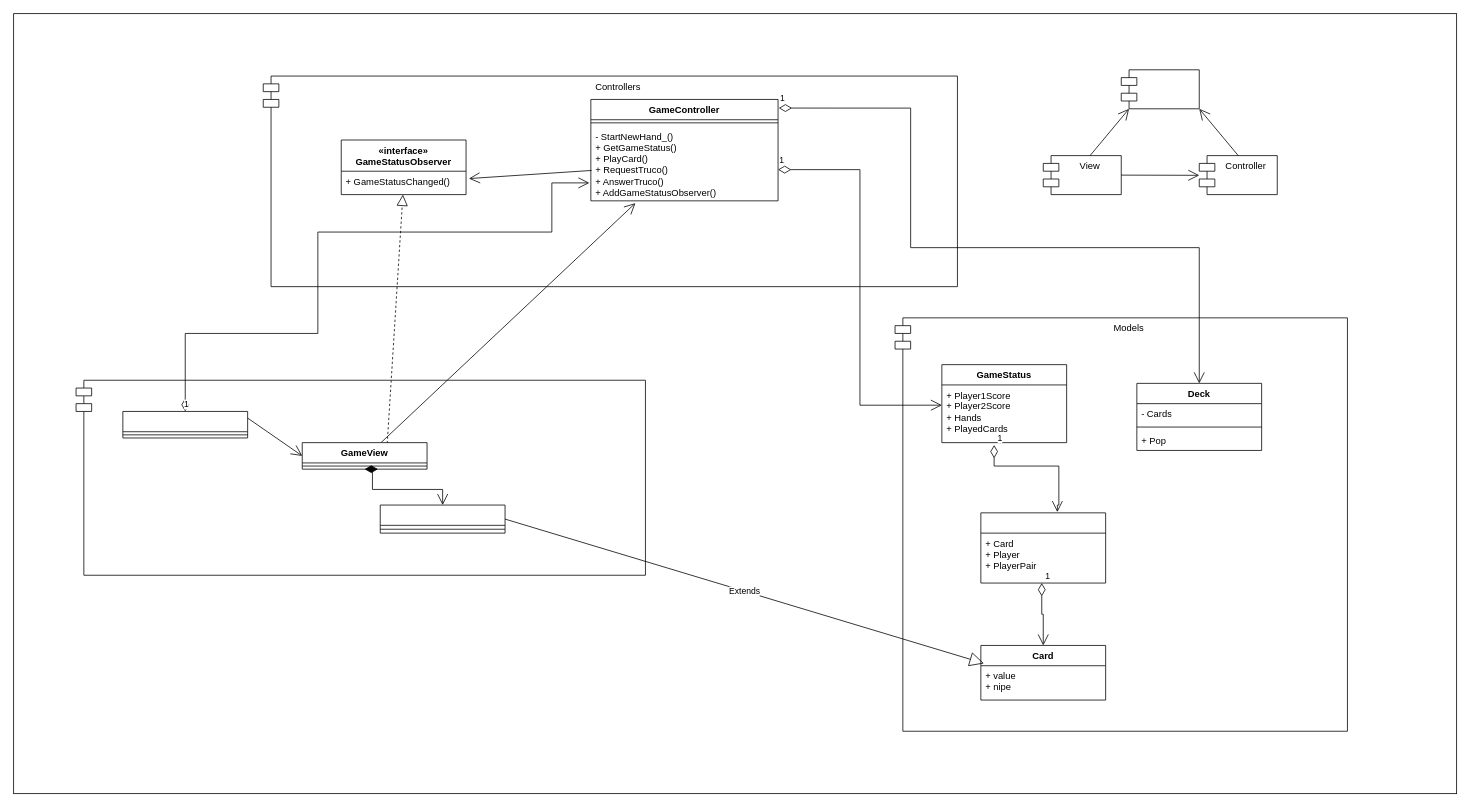
Image size: 1470x807. Some labels were removed from this diagram. Here are the shapes that lost their labels. From the top down, the box of each, then its label:
(1120, 69, 1199, 109): Model
(122, 411, 248, 438): MainMenuView
(75, 379, 645, 575): Views
(379, 504, 505, 533): CardView
(980, 512, 1106, 583): PlayedCard
